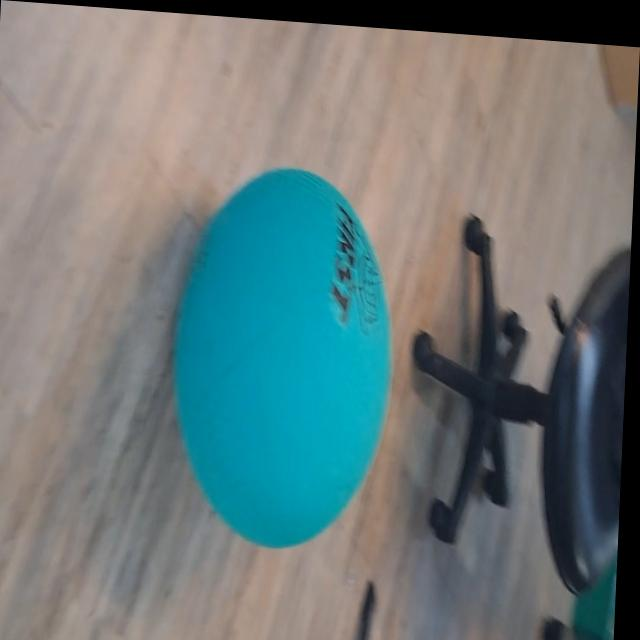ALGAE: (162, 157, 404, 559)
